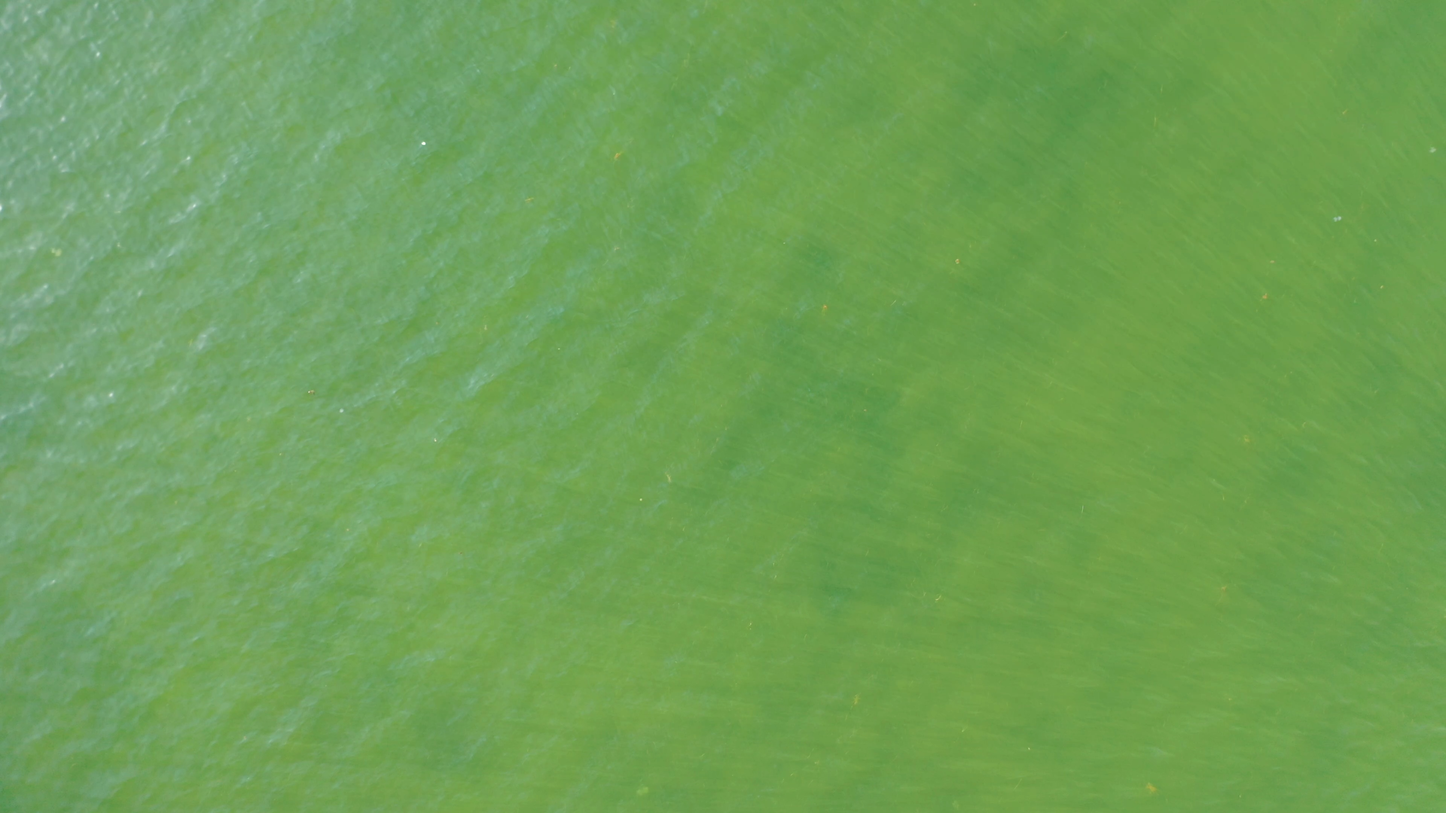meduse: (51, 246, 62, 257), (1335, 215, 1342, 224), (1430, 147, 1437, 154)
